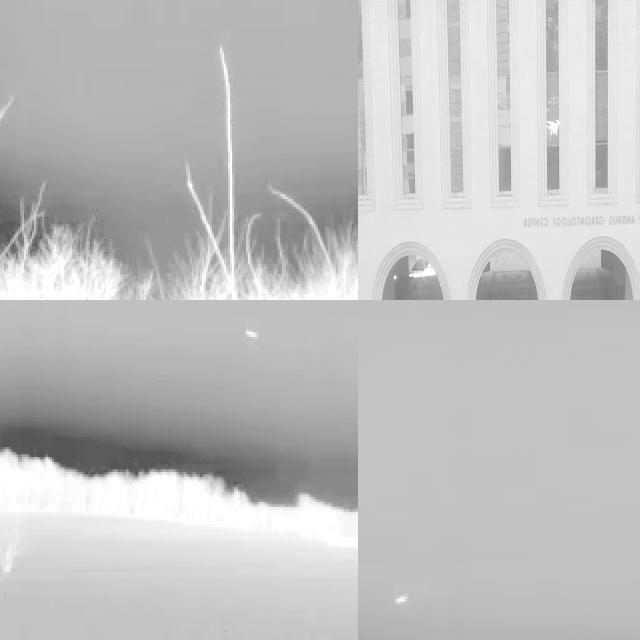1: (235, 323, 269, 353), (386, 590, 416, 616)
drone: (548, 120, 562, 138)
